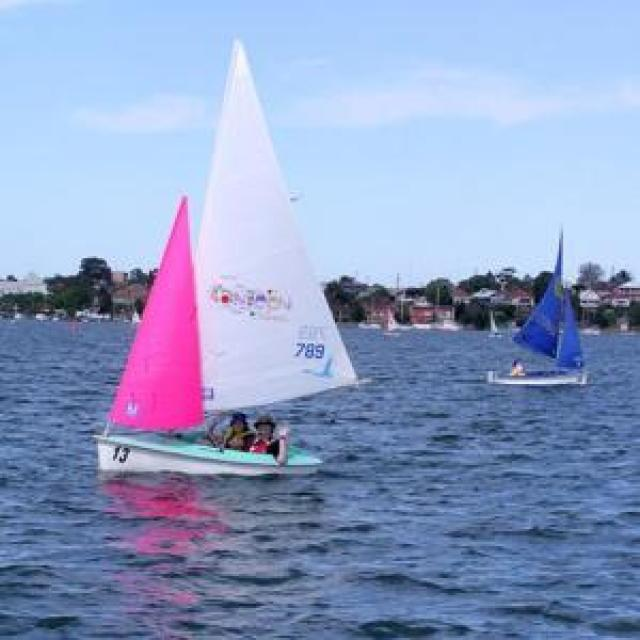sailboat: (95, 32, 352, 470), (482, 225, 597, 386)
